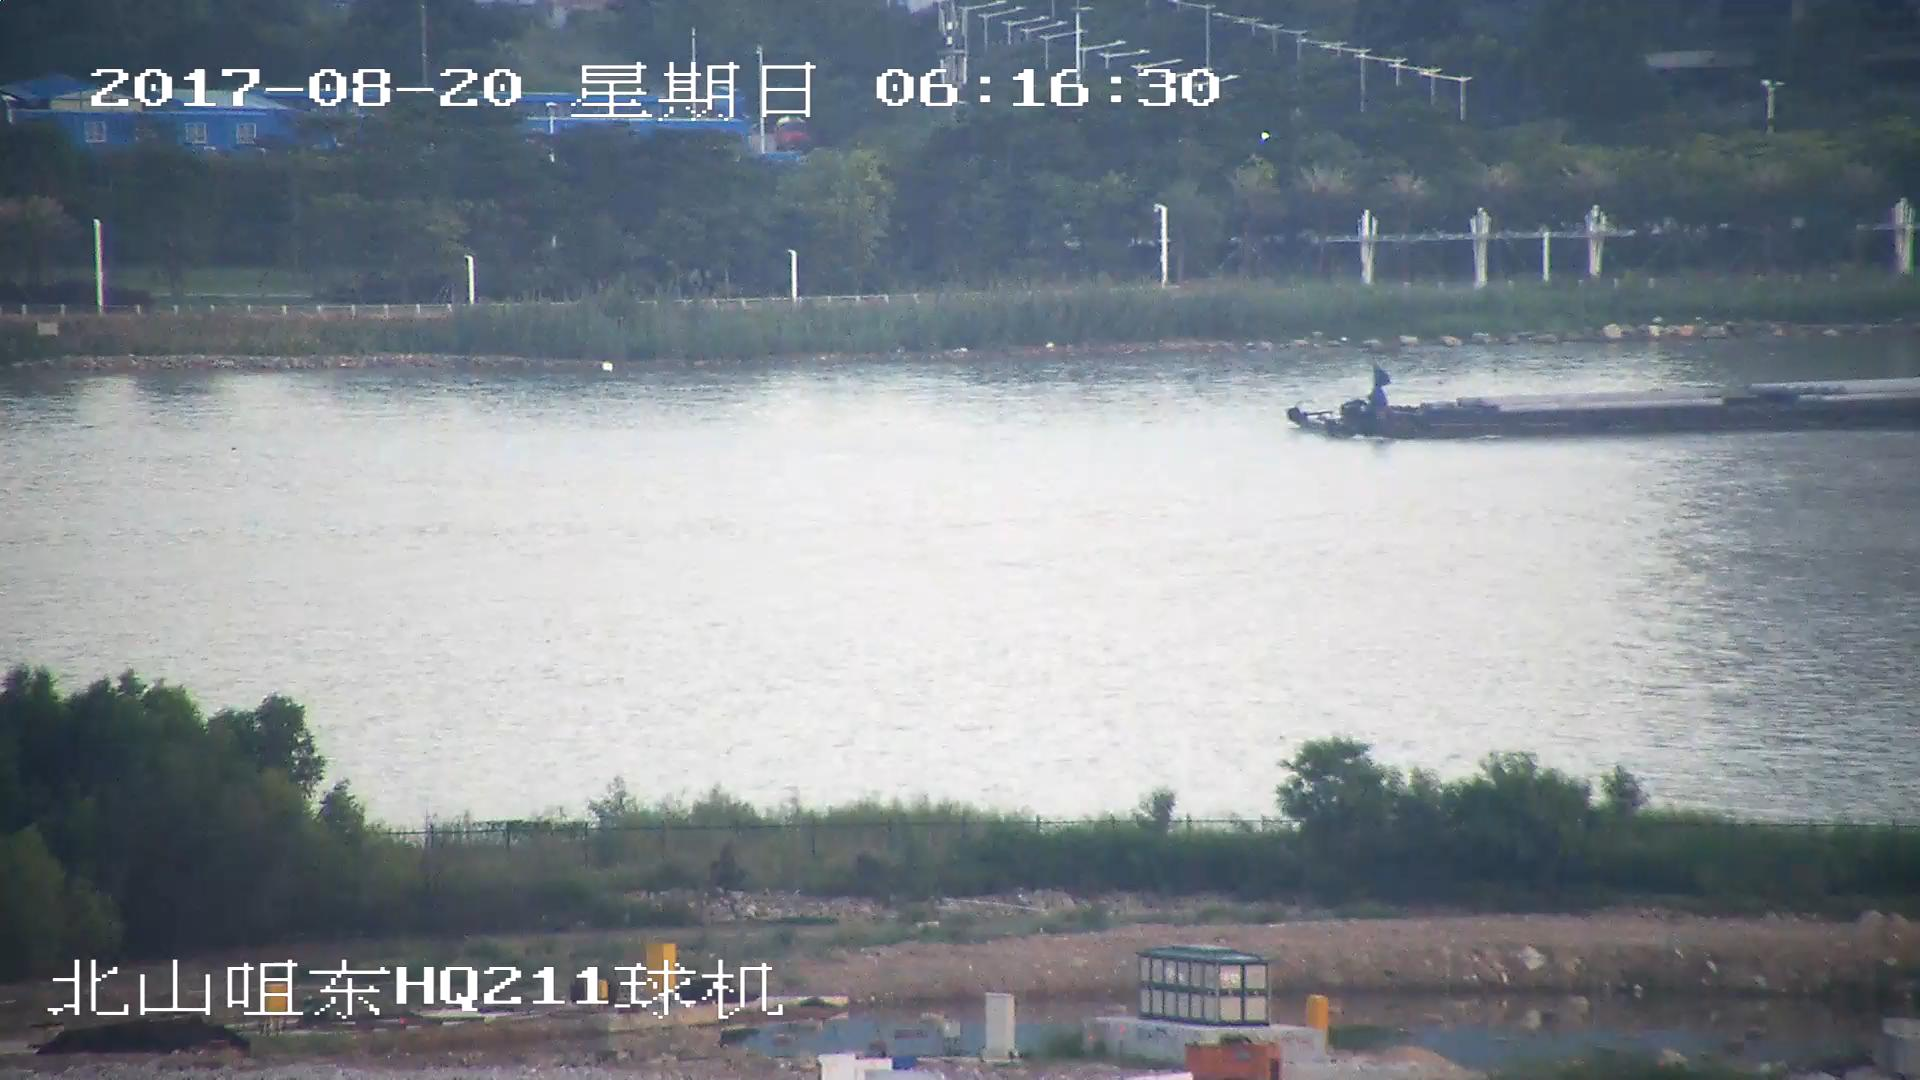bulk cargo carrier: (1288, 367, 1920, 442)
